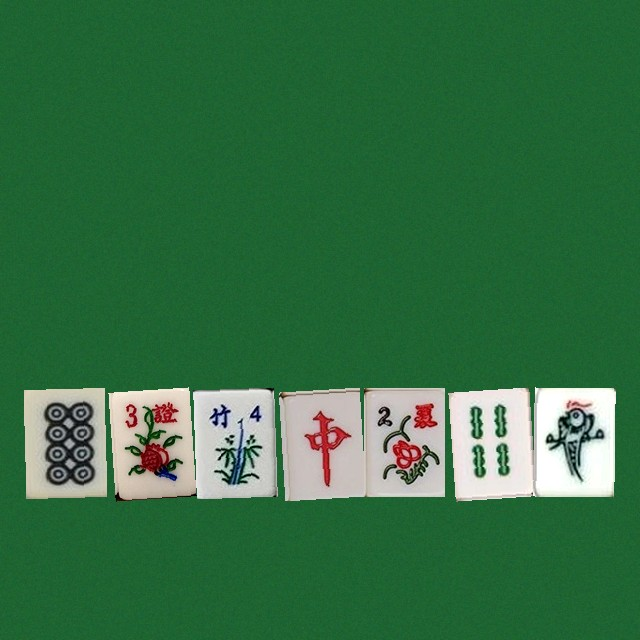tile: (23, 387, 104, 496), (108, 387, 189, 496), (193, 387, 274, 496), (278, 387, 359, 496), (363, 387, 444, 496), (448, 387, 529, 496), (533, 387, 614, 496)
